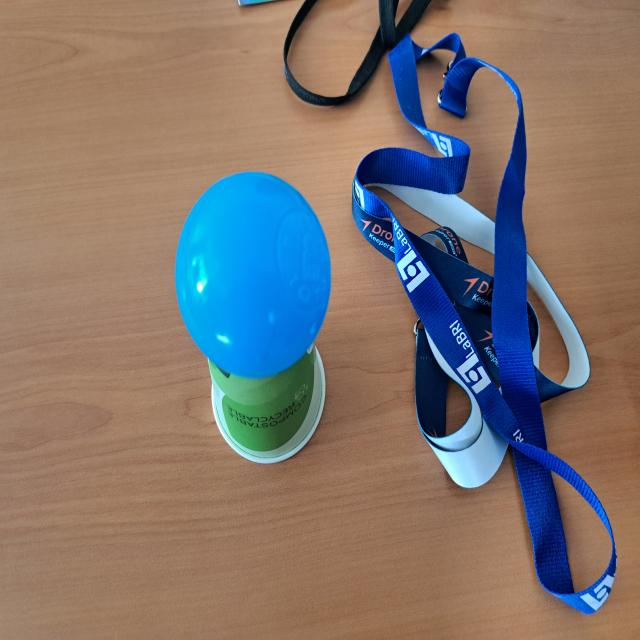blue: (172, 168, 334, 380)
